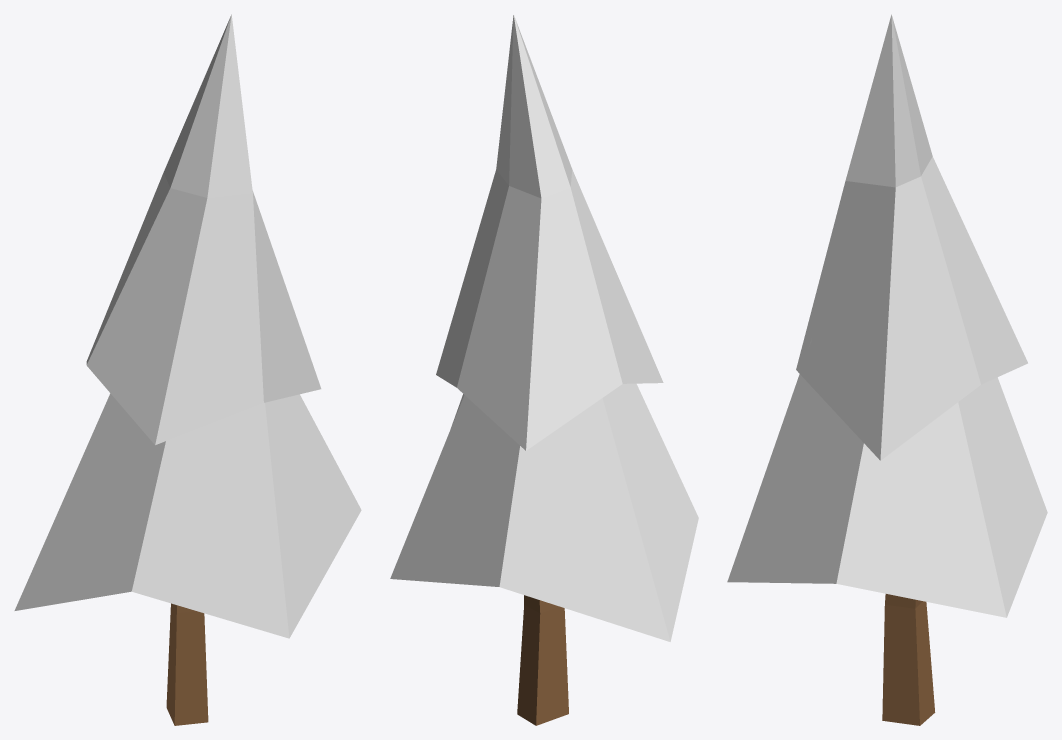
Rendered from Pine_Tree_OneSided_s_Snow_08.fbx.
The picture shows the model from 3 angles, left to right: view 1: azimuth 30°, elevation 25°; view 2: azimuth 150°, elevation 25°; view 3: azimuth 270°, elevation 25°; orthographic projection. The views are drawn at different scales.
Parts seen in each view (by area): view 1: Pine_Tree_OneSided_s_Snow_08; view 2: Pine_Tree_OneSided_s_Snow_08; view 3: Pine_Tree_OneSided_s_Snow_08.
Part boxes in pixels (box(x1,y1,x2,y2)): Pine_Tree_OneSided_s_Snow_08: box(14, 14, 361, 725); Pine_Tree_OneSided_s_Snow_08: box(390, 15, 698, 725); Pine_Tree_OneSided_s_Snow_08: box(727, 14, 1047, 725).
Size of the model in its own units: 75.23 by 172 by 69.34.
